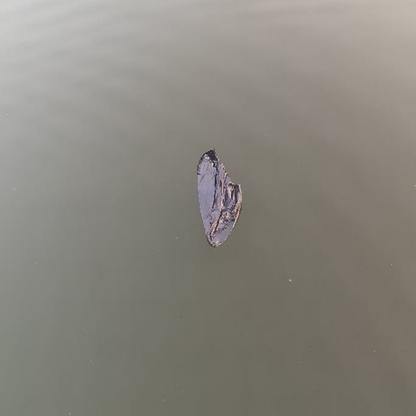plastic bag: (198, 148, 241, 247)
